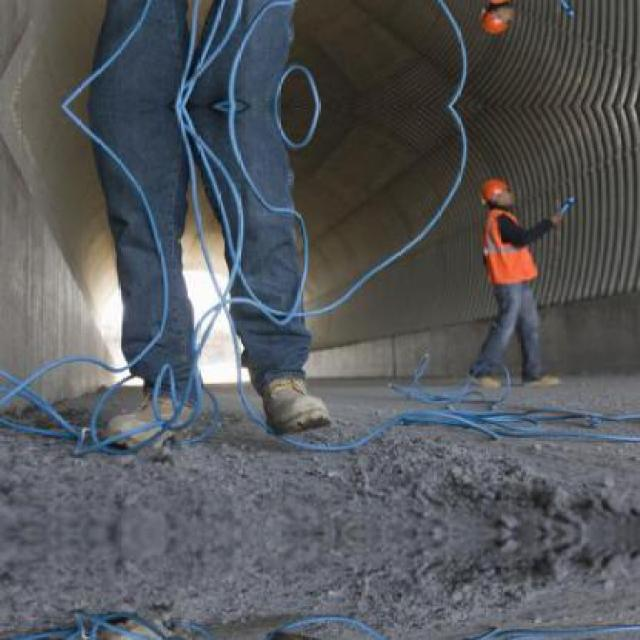helmet: (480, 176, 517, 214), (480, 0, 518, 37)
